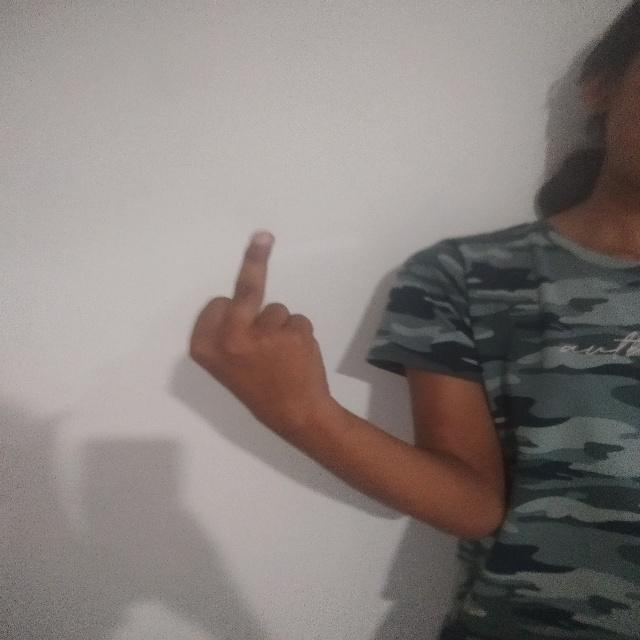Middle Finger: (181, 211, 351, 431)
